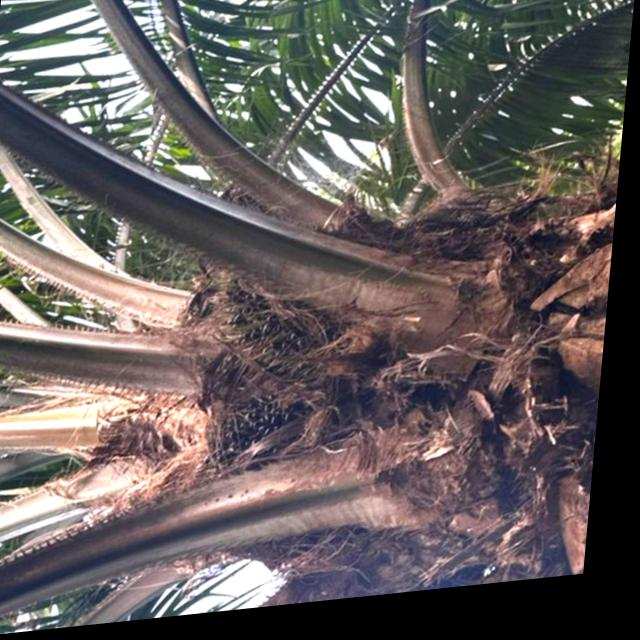unripe: (206, 246, 390, 408), (196, 390, 335, 502)
